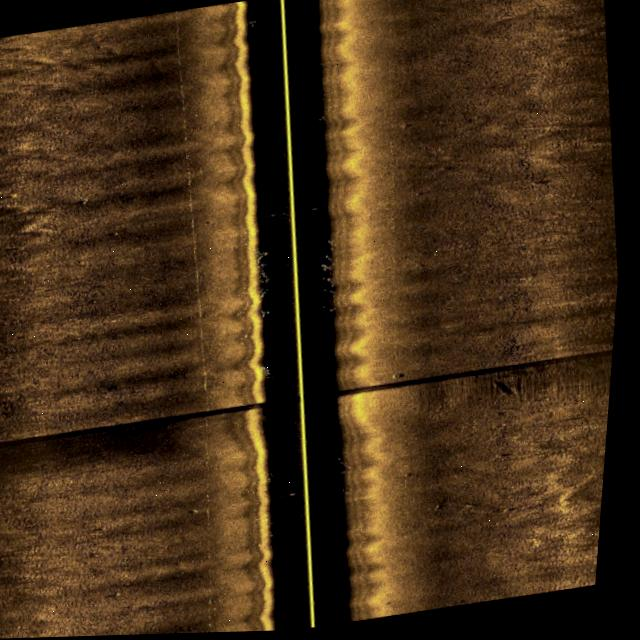mine: (193, 508, 208, 518)
other: (390, 369, 413, 386)
